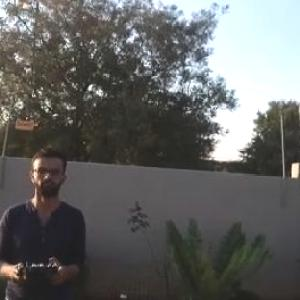follow: (0, 141, 90, 299)
